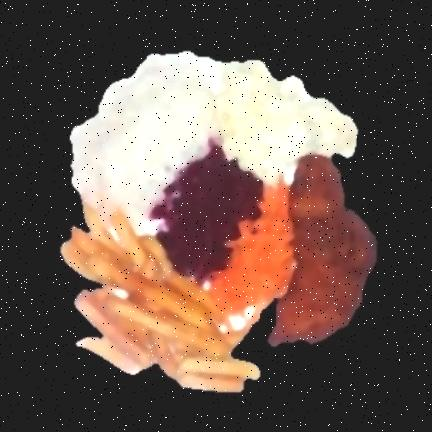beet: (151, 145, 262, 282)
carrot: (210, 183, 294, 315)
chicken: (269, 155, 375, 346)
potato: (62, 207, 259, 391)
